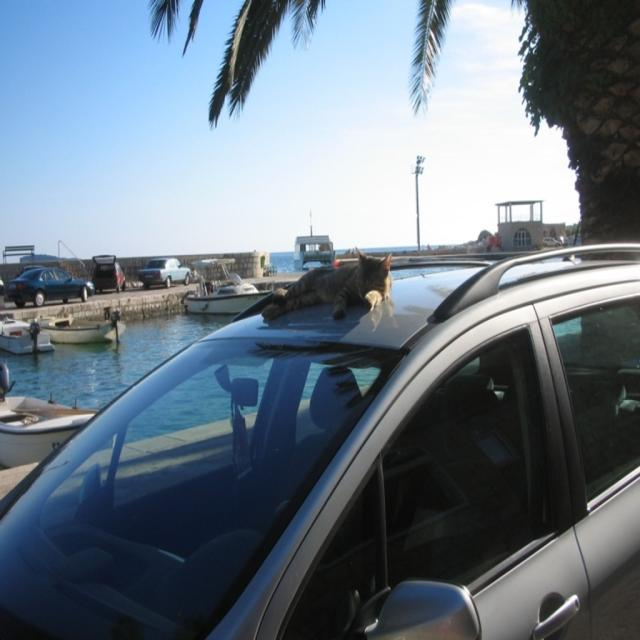car: (6, 262, 95, 306), (136, 255, 191, 283)
